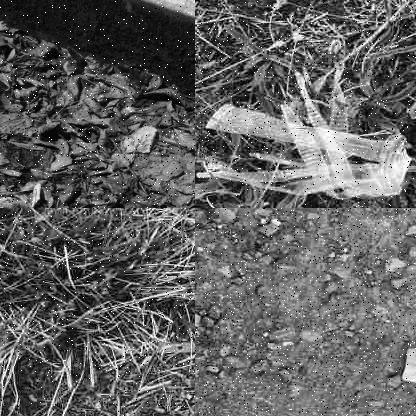plastic: (200, 78, 409, 203), (93, 339, 194, 360), (402, 343, 415, 385)
